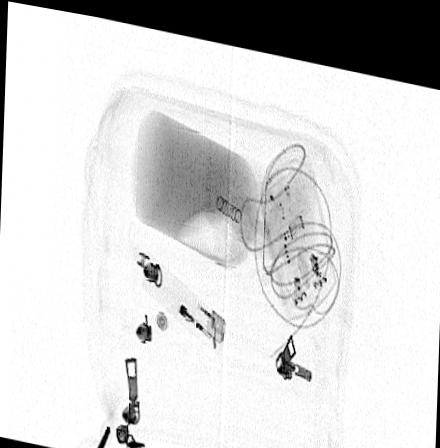Lighter: (139, 247, 224, 344)
